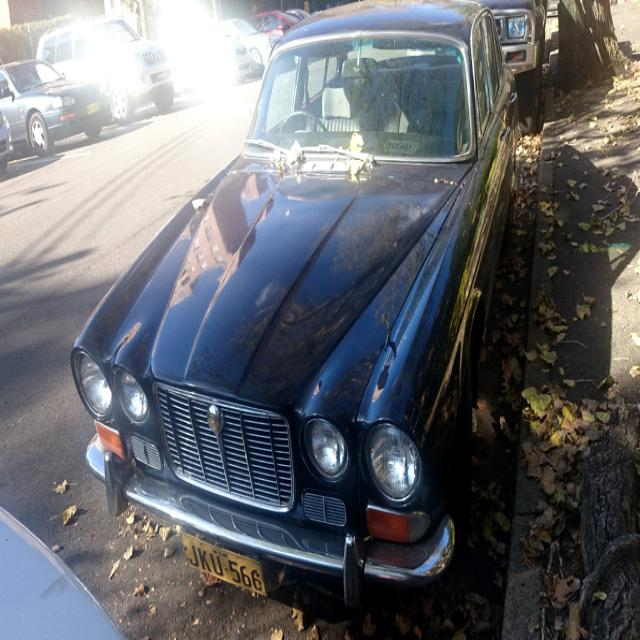car: (72, 37, 526, 627)
